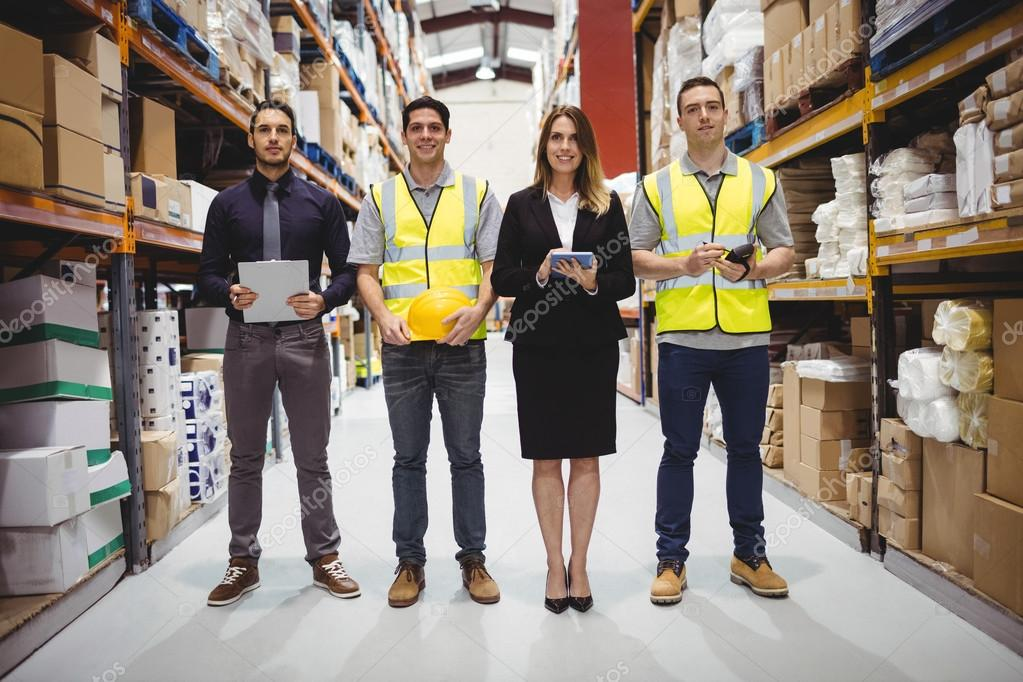noepi: (204, 95, 367, 606), (639, 74, 793, 611), (353, 95, 508, 612), (496, 100, 639, 618)
